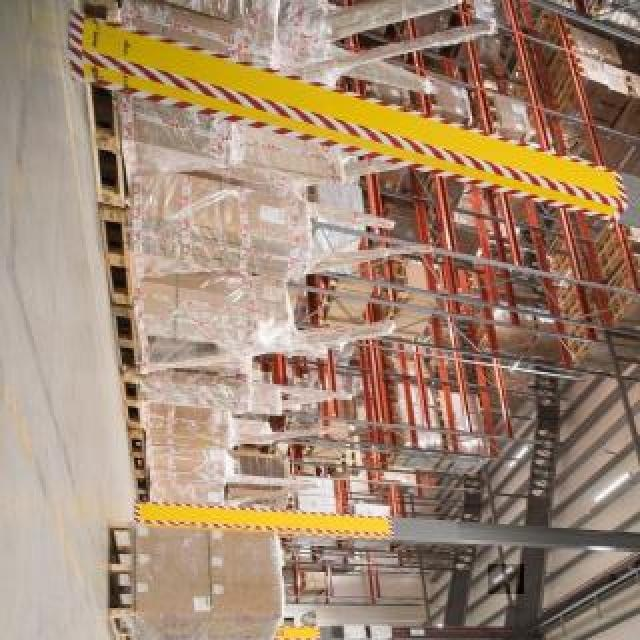fluorescent tube: (576, 430, 640, 526), (505, 437, 554, 483), (494, 563, 518, 592)
